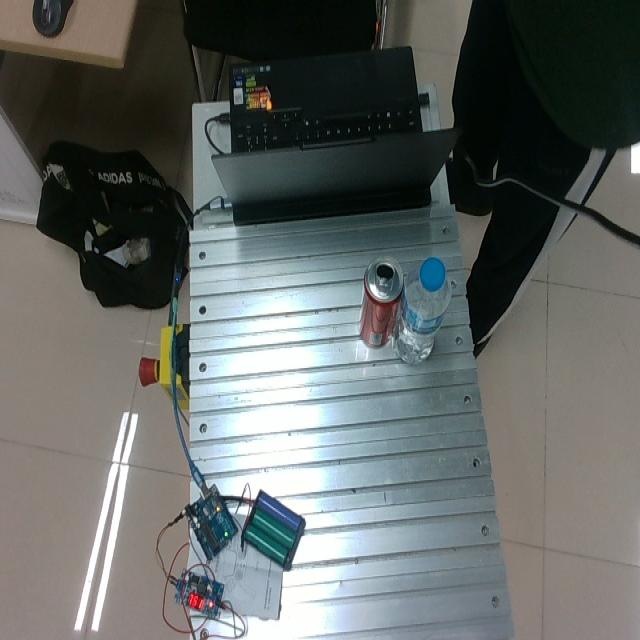coca: (358, 256, 404, 349)
lavie: (393, 257, 451, 364)
